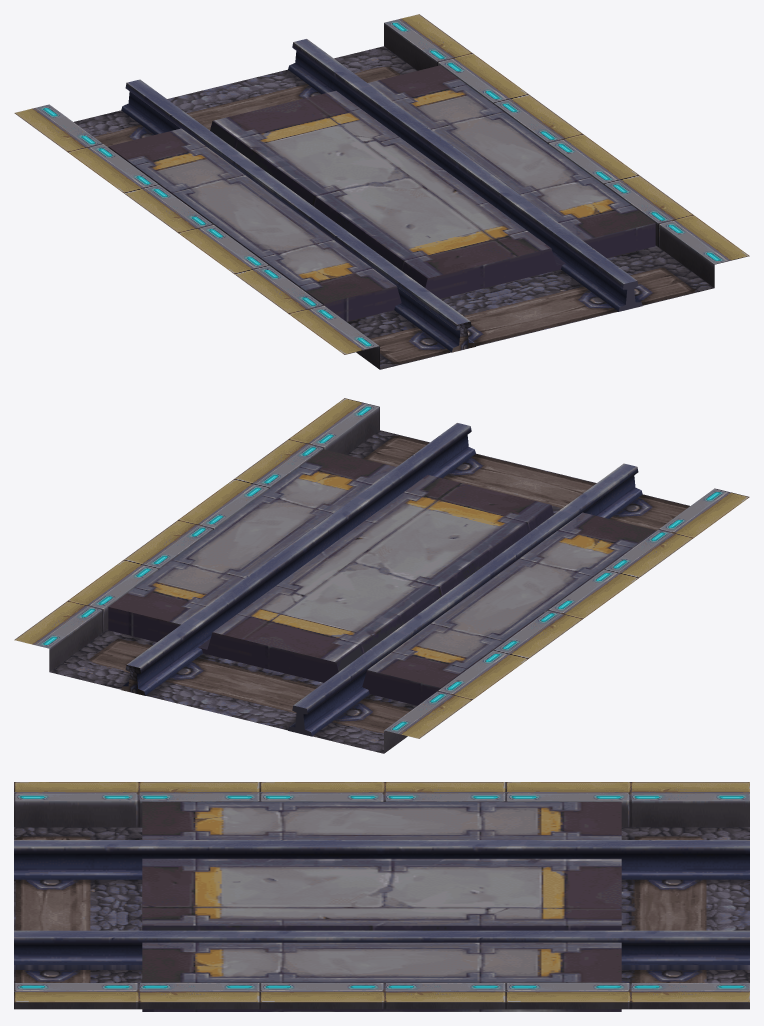
File: hbxz_road005_01.FBX
The picture shows the model from 3 angles, top to bottom: view 1: azimuth 30°, elevation 25°; view 2: azimuth 150°, elevation 25°; view 3: azimuth 270°, elevation 25°; orthographic projection. The views are drawn at different scales.
Visible parts, largest first — view 1: hbxz_road005_01; view 2: hbxz_road005_01; view 3: hbxz_road005_01.
Boxes of the visible parts, box(x1,y1,x2,y2) form: hbxz_road005_01: box(14, 14, 749, 369); hbxz_road005_01: box(14, 398, 749, 753); hbxz_road005_01: box(14, 782, 749, 1011).
Size of the model in its own units: 495 by 34.34 by 699.
2 materials, 2 textured.
